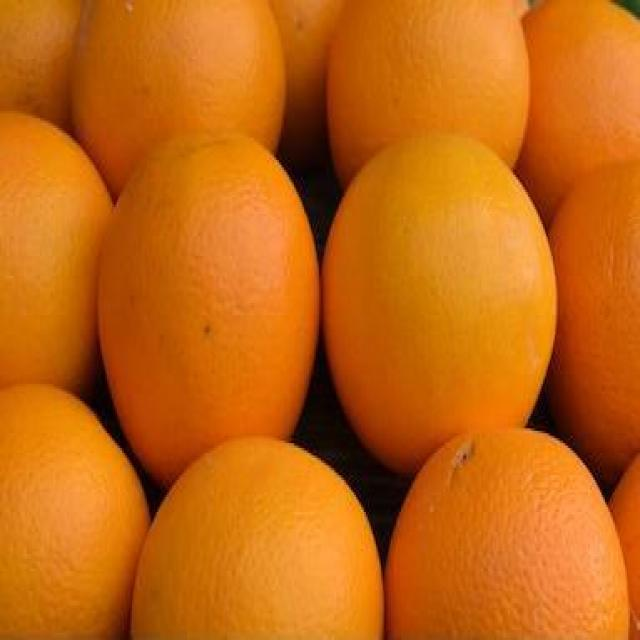orange: (323, 127, 559, 433), (95, 136, 319, 436), (386, 425, 632, 640), (133, 434, 382, 640), (0, 376, 133, 640), (70, 0, 287, 135), (321, 0, 528, 138), (0, 110, 100, 388)
